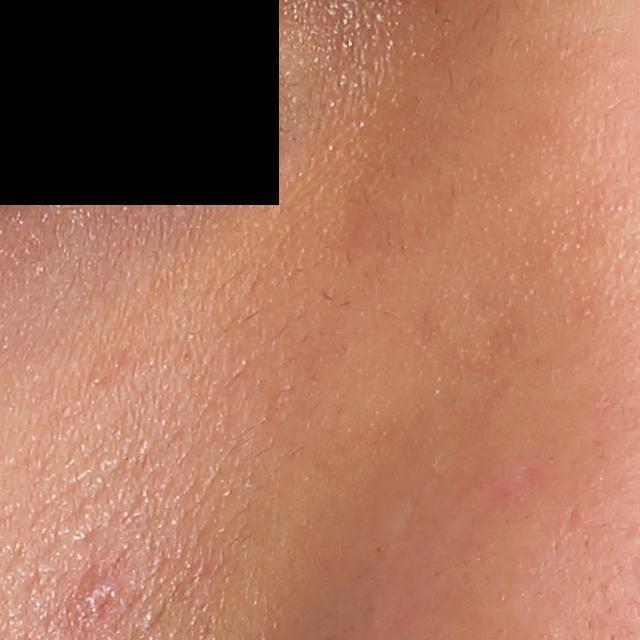papule: (75, 570, 128, 618)
